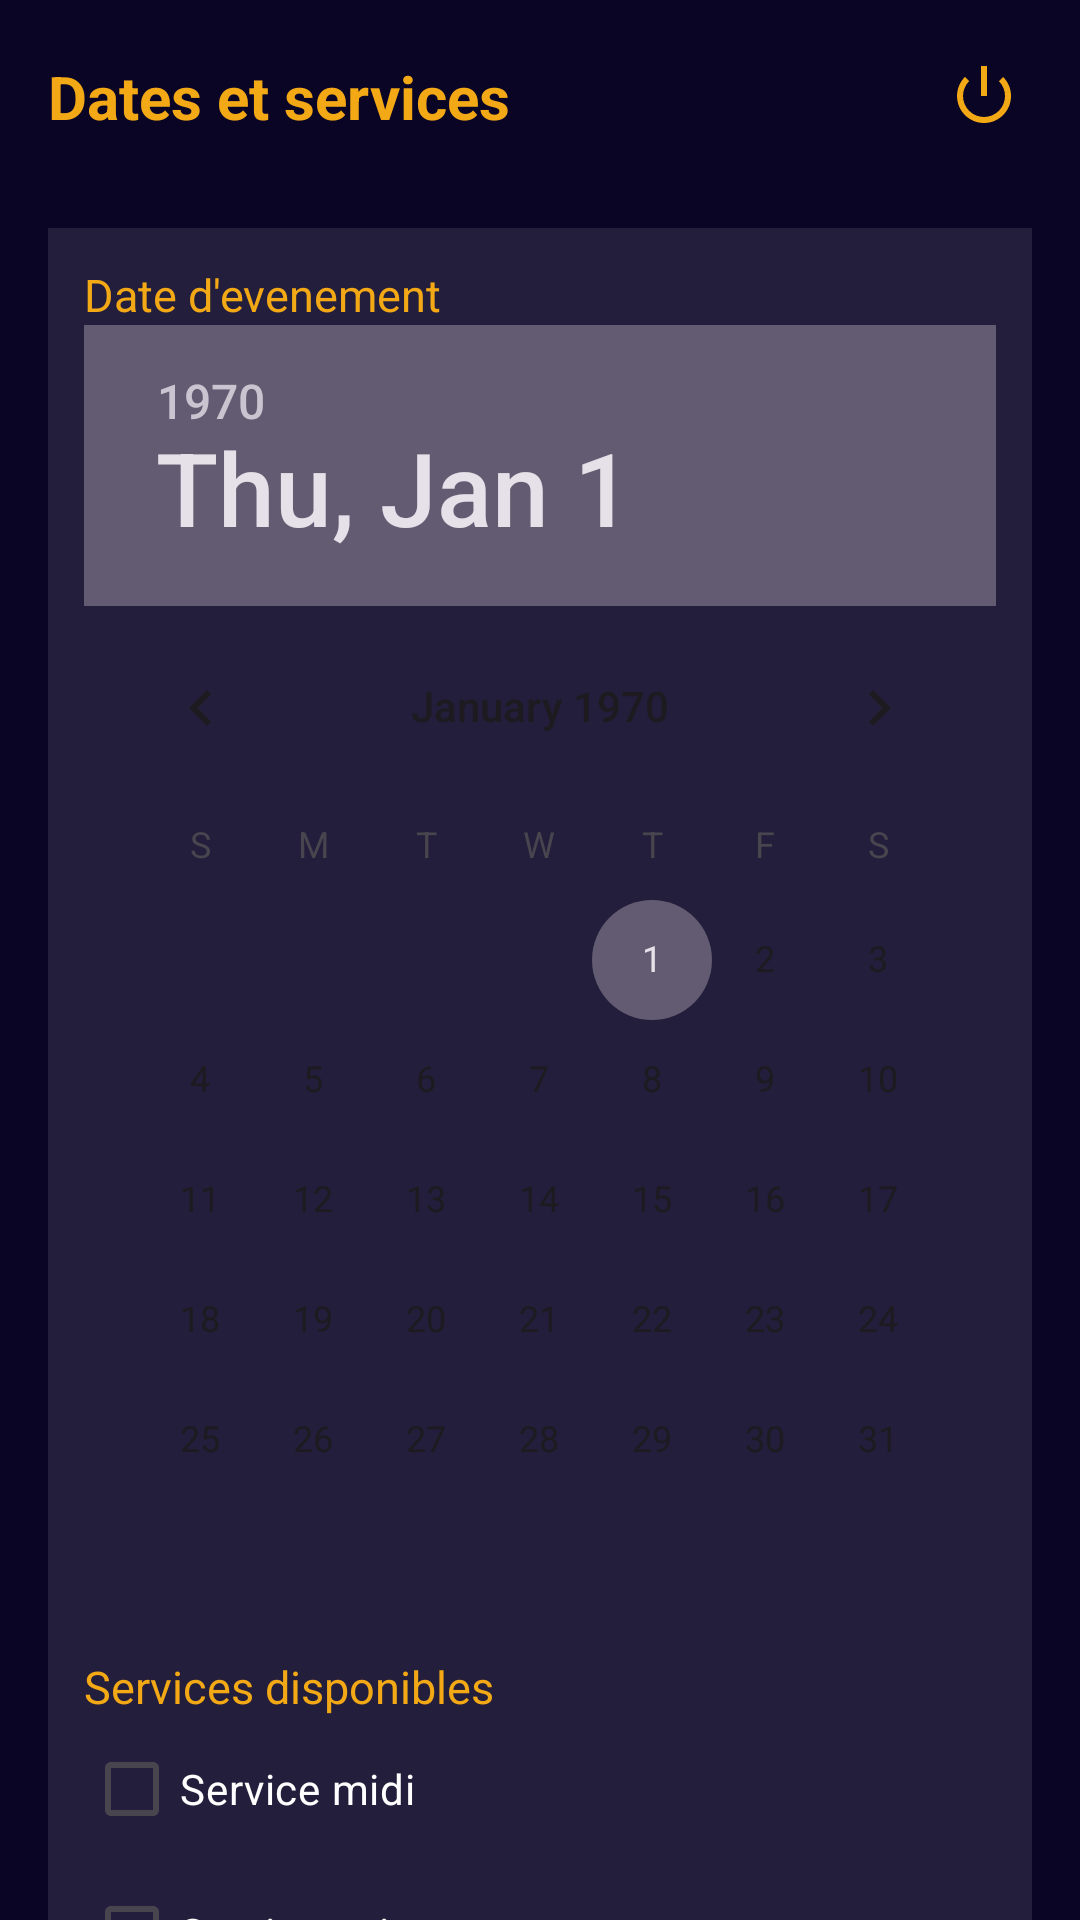

Screen size 1080px×1920px. Icon name, then its center in pixels as point (x, y):
Se deconnecter: point (984, 94)
